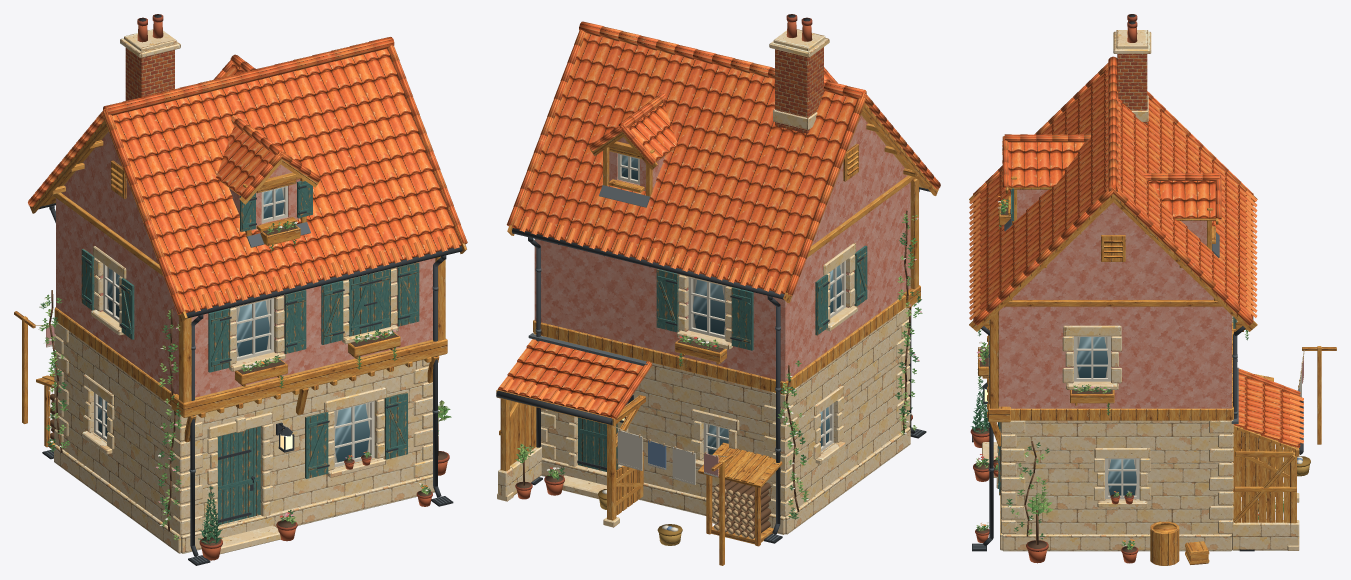
3 renders of one model, left to right at view 1: azimuth 30°, elevation 25°; view 2: azimuth 150°, elevation 25°; view 3: azimuth 270°, elevation 25°, orthographic. The views are drawn at different scales.
Parts seen in each view (by area): view 1: seaside_roof, seaside_stone, seaside_plaster, seaside_timber, seaside_shutter, house_paint, seaside_ridge, house_window_pane, alt_chimney_brick, detail_vines, detail_window_boxes, alt_shutters_open (+4 smaller); view 2: seaside_roof, seaside_stone, seaside_plaster, seaside_timber, house_paint, seaside_shutter, detail_wood_store, alt_chimney_brick, detail_laundry, seaside_ridge, detail_vines, house_window_pane (+2 smaller); view 3: seaside_roof, seaside_stone, seaside_plaster, seaside_timber, house_paint, alt_chimney_brick, seaside_ridge, detail_planters, detail_yard, house_window_pane, detail_window_boxes, detail_laundry (+1 smaller).
Part boxes in pixels (x1=…): seaside_roof: x1=28, y1=45, x2=467, y2=314; seaside_stone: x1=54, y1=246, x2=434, y2=554; seaside_plaster: x1=56, y1=131, x2=435, y2=397; seaside_timber: x1=29, y1=119, x2=466, y2=442; seaside_shutter: x1=81, y1=181, x2=407, y2=524; house_paint: x1=39, y1=185, x2=462, y2=565; seaside_ridge: x1=103, y1=37, x2=394, y2=155; house_window_pane: x1=98, y1=187, x2=370, y2=462; alt_chimney_brick: x1=120, y1=14, x2=180, y2=100; detail_vines: x1=38, y1=290, x2=439, y2=540; detail_window_boxes: x1=235, y1=221, x2=400, y2=388; alt_shutters_open: x1=321, y1=262, x2=419, y2=344; seaside_roof: x1=498, y1=30, x2=940, y2=419; seaside_stone: x1=497, y1=242, x2=910, y2=534; seaside_plaster: x1=534, y1=115, x2=910, y2=381; seaside_timber: x1=496, y1=103, x2=938, y2=520; house_paint: x1=496, y1=153, x2=930, y2=543; seaside_shutter: x1=578, y1=245, x2=867, y2=471; detail_wood_store: x1=698, y1=442, x2=782, y2=546; alt_chimney_brick: x1=769, y1=14, x2=829, y2=133; detail_laundry: x1=614, y1=426, x2=732, y2=565; seaside_ridge: x1=579, y1=21, x2=866, y2=128; detail_vines: x1=777, y1=210, x2=922, y2=519; house_window_pane: x1=621, y1=155, x2=841, y2=454; seaside_roof: x1=969, y1=63, x2=1303, y2=447; seaside_stone: x1=982, y1=316, x2=1299, y2=551; seaside_plaster: x1=999, y1=189, x2=1231, y2=408; seaside_timber: x1=969, y1=148, x2=1299, y2=523; house_paint: x1=972, y1=189, x2=1303, y2=551; alt_chimney_brick: x1=1113, y1=14, x2=1151, y2=124; seaside_ridge: x1=1004, y1=56, x2=1219, y2=193; detail_planters: x1=970, y1=380, x2=1133, y2=563; detail_yard: x1=1121, y1=457, x2=1283, y2=565; house_window_pane: x1=1076, y1=337, x2=1136, y2=495; detail_window_boxes: x1=977, y1=196, x2=1248, y2=415; detail_laundry: x1=1297, y1=346, x2=1336, y2=476.
Bounding box in the file's own units: 6.51 × 9.63 × 7.37.
10 materials, 9 textured.
